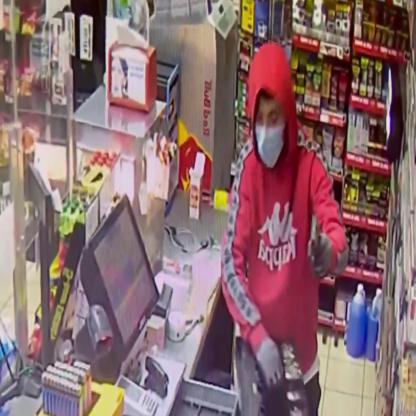Pistol: (307, 202, 323, 269)
